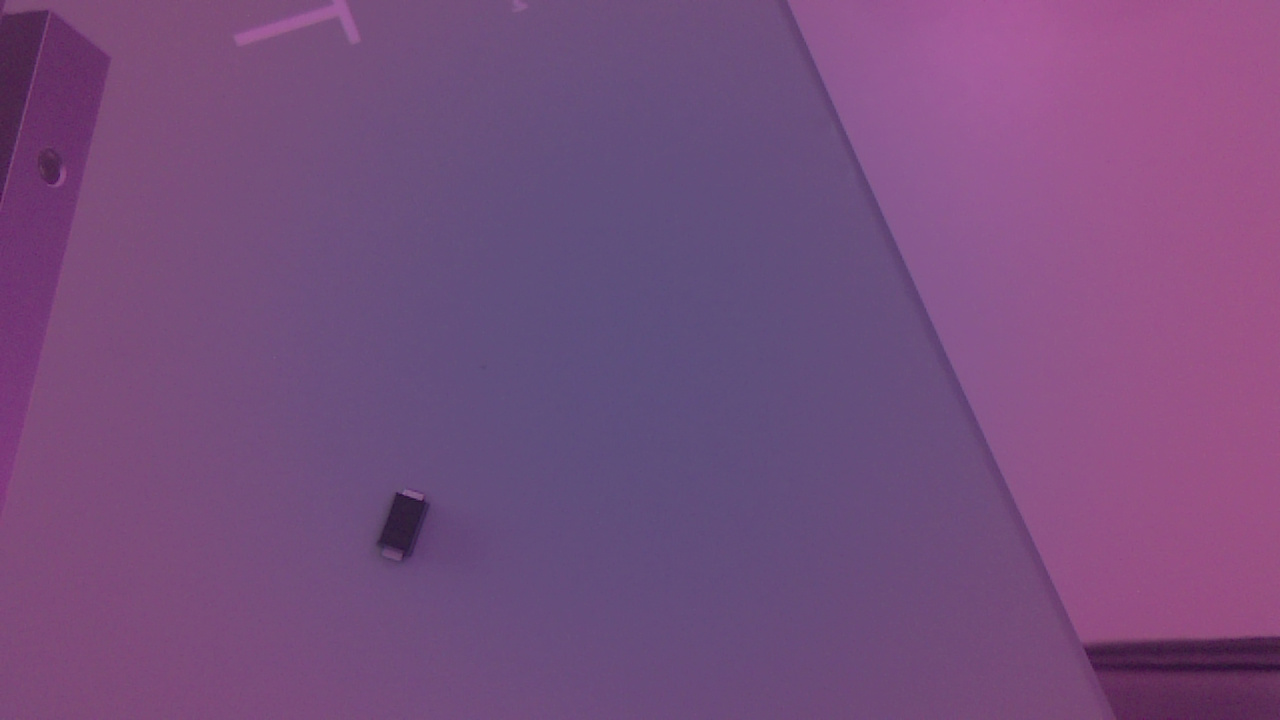Diode: (376, 491, 441, 573)
